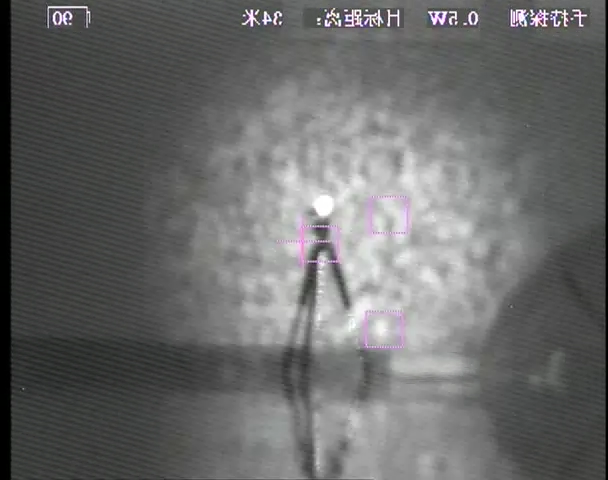my: (313, 194, 335, 218)
